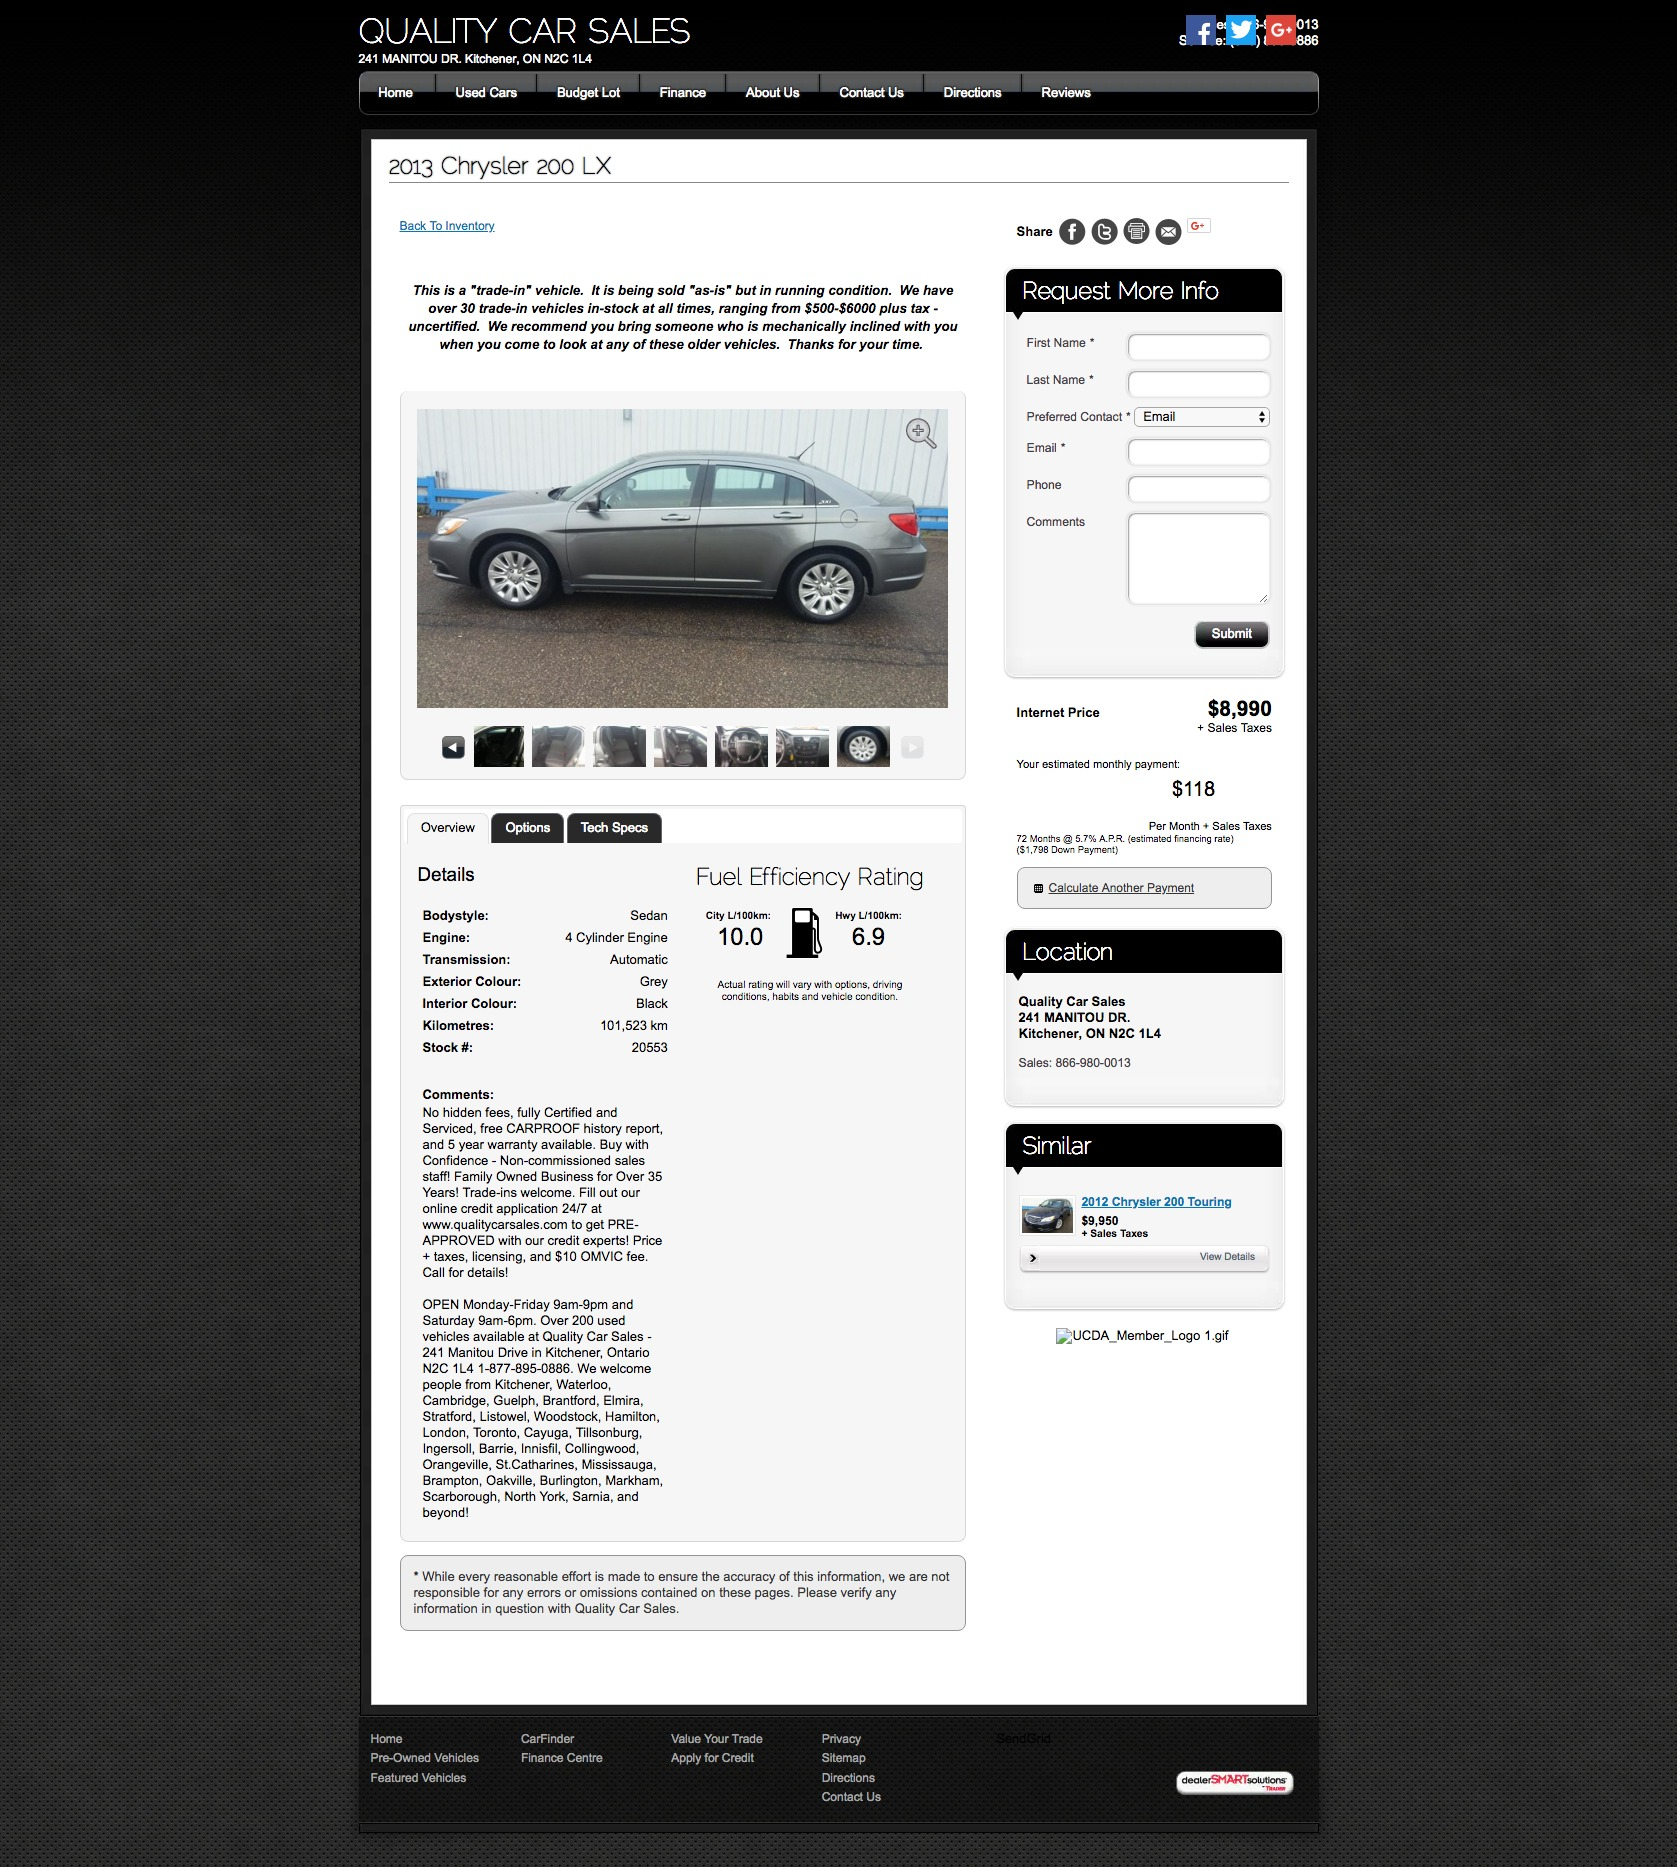car: (902, 737, 926, 759)
